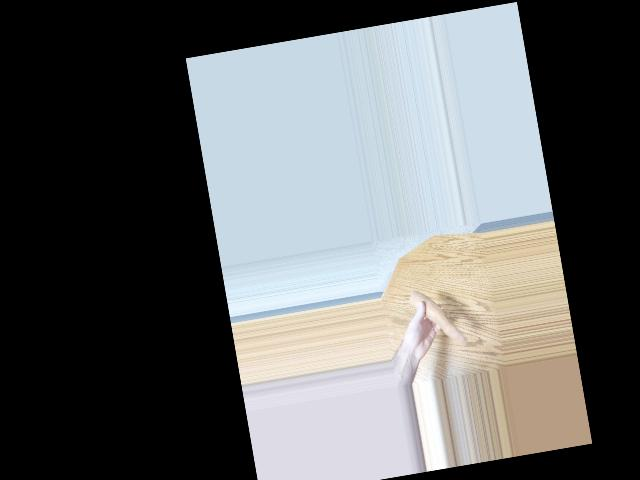sweet_potato: (407, 288, 466, 353)
